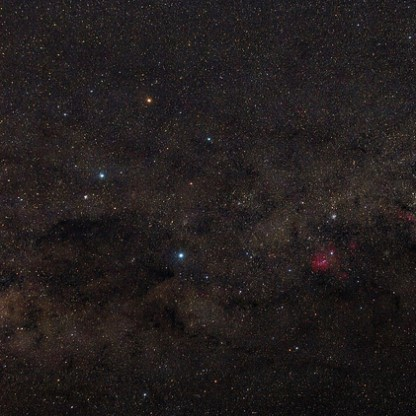Southern Cross: (169, 247, 190, 266), (201, 130, 218, 147), (139, 93, 157, 109), (91, 167, 107, 183)
